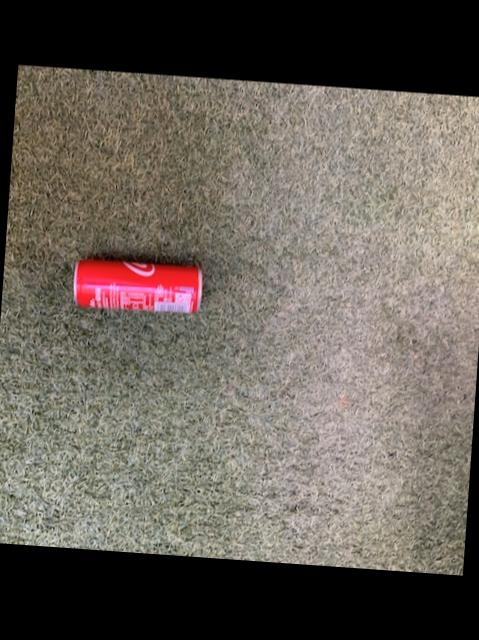metal: (73, 259, 200, 311)
